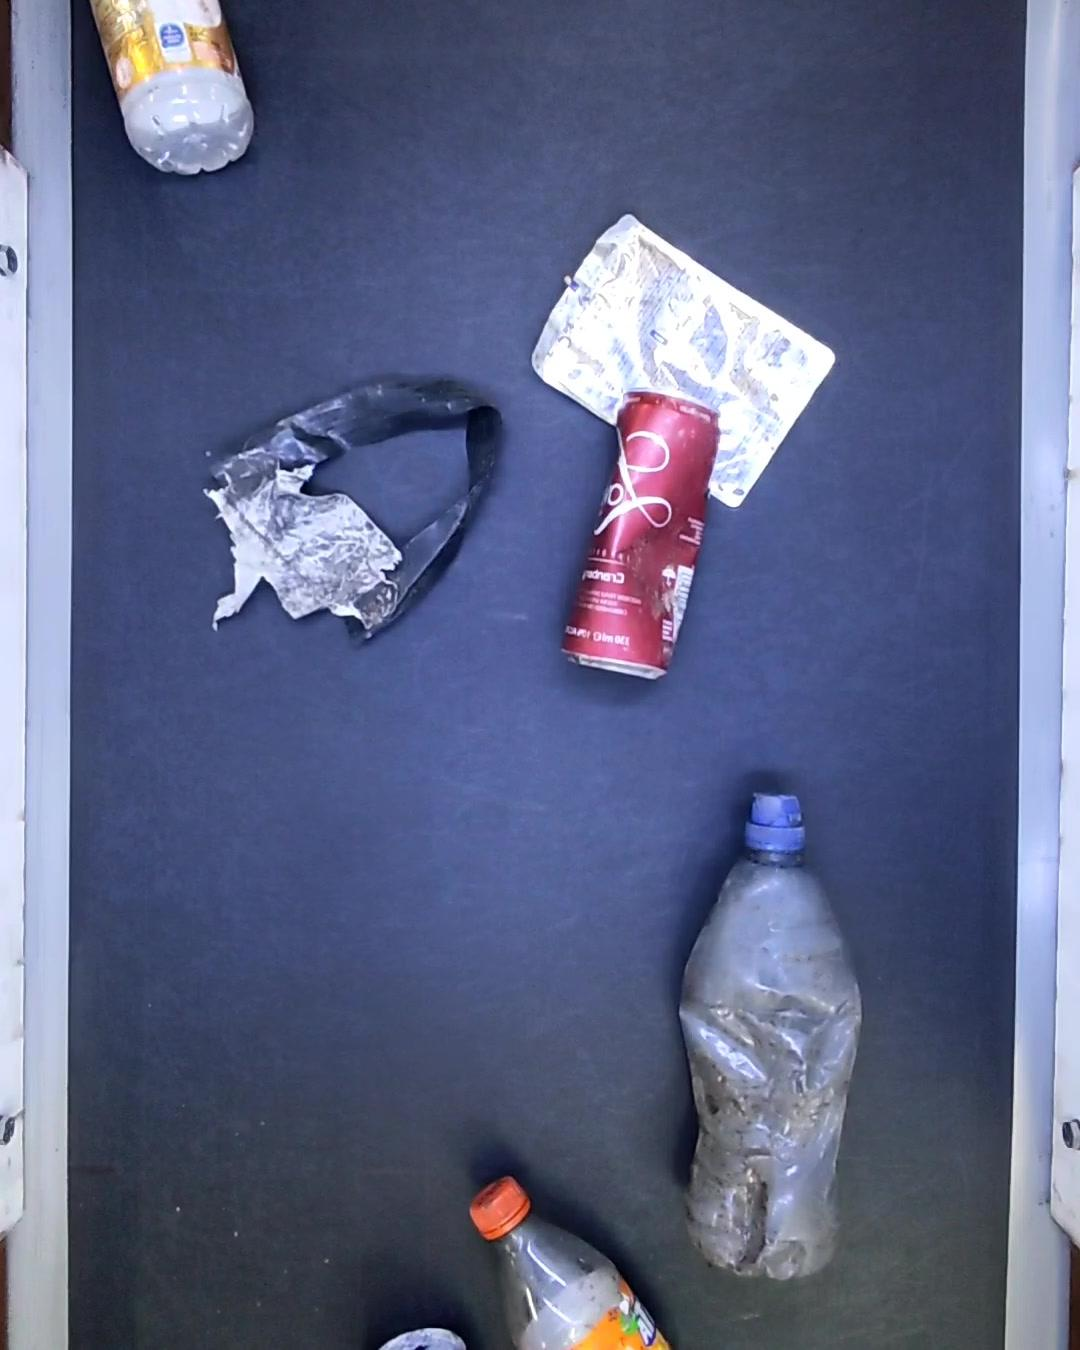Drankblikjes: (551, 387, 723, 689)
Drankflessen - 1-2 liter: (677, 787, 870, 1281), (457, 1178, 689, 1350), (91, 0, 257, 182)
